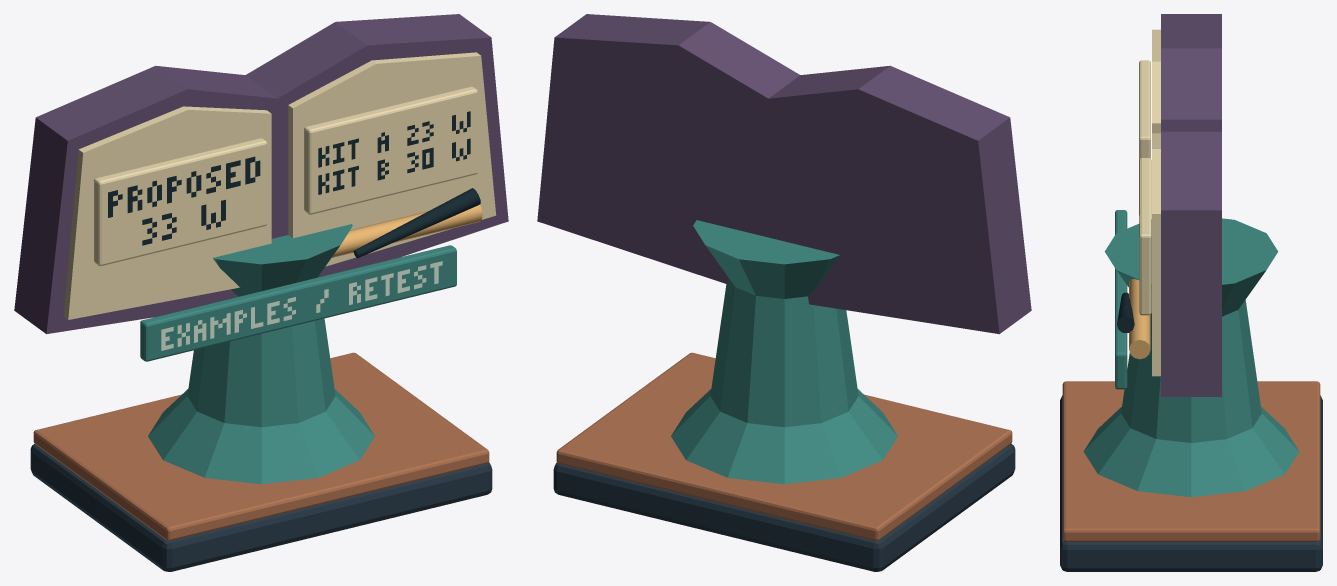
3 renders of one model, left to right at view 1: azimuth 30°, elevation 25°; view 2: azimuth 150°, elevation 25°; view 3: azimuth 270°, elevation 25°, orthographic. The views are drawn at different scales.
Parts seen in each view (by area): view 1: PR089 enamel and hardware; view 2: PR089 enamel and hardware; view 3: PR089 enamel and hardware.
Boxes of the visible parts, box(x1,y1,x2,y2) form: PR089 enamel and hardware: box(14, 14, 508, 571); PR089 enamel and hardware: box(537, 14, 1031, 571); PR089 enamel and hardware: box(1060, 14, 1322, 571).
Size of the model in its own units: 1 by 0.8889 by 0.5185.
